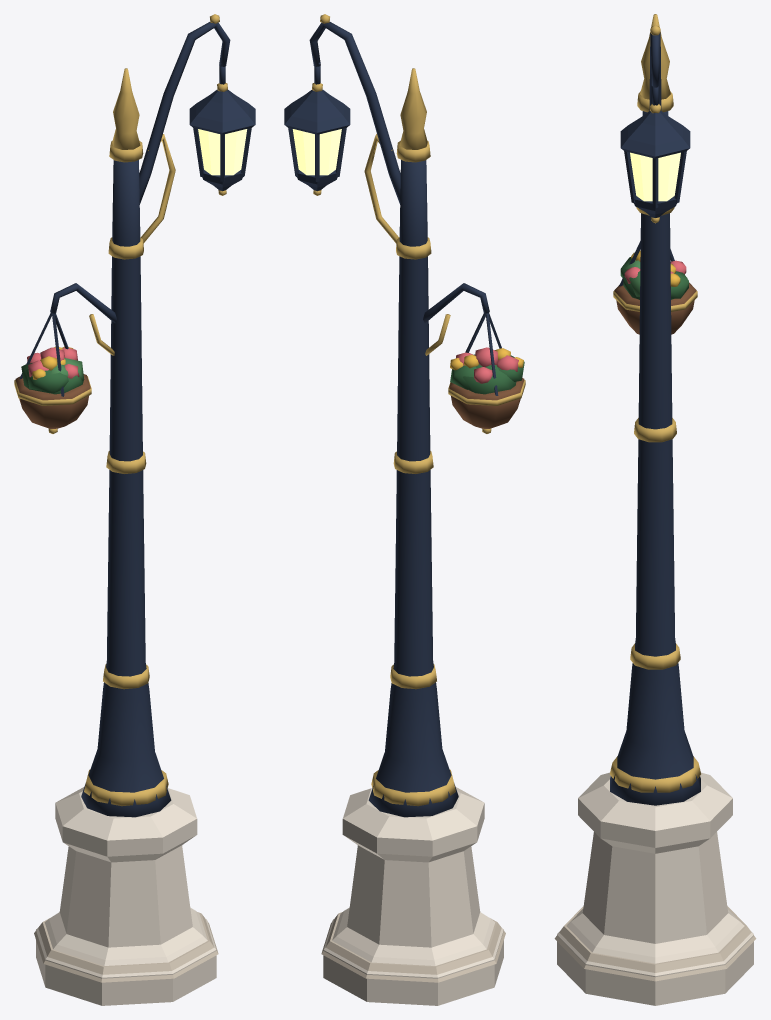
File: prop_street_lamp.glb
3 views of the same model, side by side, from view 1: azimuth 30°, elevation 25°; view 2: azimuth 150°, elevation 25°; view 3: azimuth 270°, elevation 25° (orthographic). The views are drawn at different scales.
Parts seen in each view (by area): view 1: prop_street_lamp; view 2: prop_street_lamp; view 3: prop_street_lamp.
Boxes of the visible parts, x1,y1,x2,y2 form: prop_street_lamp: [14, 14, 255, 1005]; prop_street_lamp: [284, 14, 525, 1005]; prop_street_lamp: [554, 14, 756, 1005].
Size of the model in its own units: 1.23 by 4.63 by 0.86.
